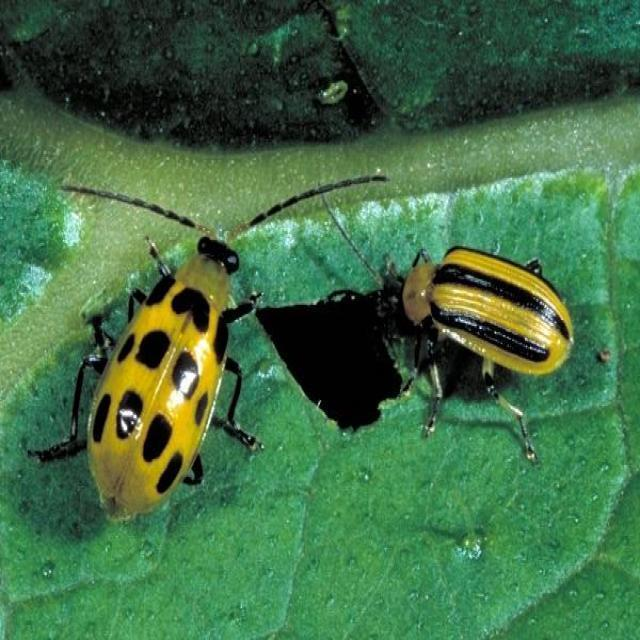gusano_verde: (28, 172, 390, 516), (318, 184, 573, 462)
